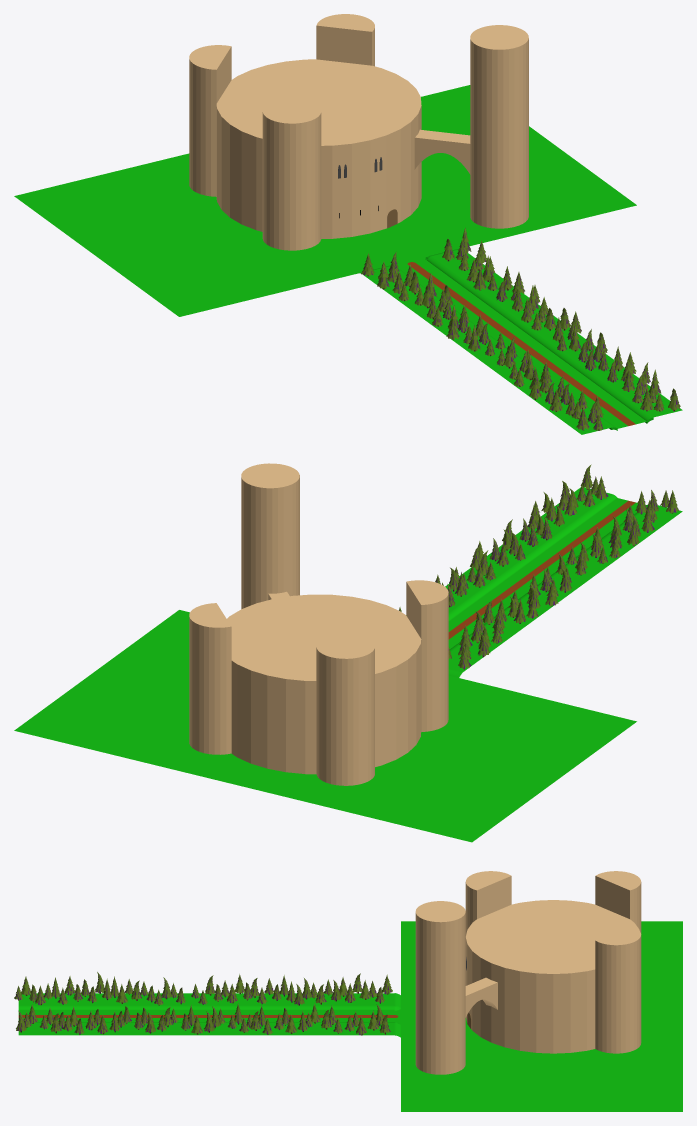
The model's file is camiInicial.glb.
3 views of the same model, one above another, from view 1: azimuth 30°, elevation 25°; view 2: azimuth 150°, elevation 25°; view 3: azimuth 270°, elevation 25° (orthographic). The views are drawn at different scales.
Visible parts, largest first — view 1: terraBellver, Castell, Semitorre, Torre, bosc.E, herba.E.002, Semitorre.001, rampaBosc.E, terra, Pont; view 2: terraBellver, Castell, Semitorre, Torre, Semitorre.001, bosc.E, herba.E.002, rampaBosc.E, terra; view 3: terraBellver, Castell, Torre, bosc.E, Semitorre.001, Semitorre, rampaBosc.E, herba.E.002, Pont, terra.
Part boxes in pixels (left/top/right/bottom): terraBellver: left=14, top=85, right=636, bottom=316; Castell: left=216, top=59, right=421, bottom=238; Semitorre: left=189, top=45, right=321, bottom=250; Torre: left=470, top=25, right=528, bottom=228; bosc.E: left=363, top=250, right=682, bottom=434; herba.E.002: left=398, top=260, right=646, bottom=428; Semitorre.001: left=316, top=14, right=374, bottom=66; rampaBosc.E: left=398, top=256, right=653, bottom=430; terra: left=408, top=263, right=635, bottom=425; Pont: left=414, top=129, right=470, bottom=174; terraBellver: left=14, top=610, right=636, bottom=842; Castell: left=227, top=594, right=421, bottom=774; Semitorre: left=316, top=580, right=448, bottom=785; Torre: left=241, top=463, right=299, bottom=608; Semitorre.001: left=189, top=603, right=231, bottom=754; bosc.E: left=445, top=487, right=682, bottom=672; herba.E.002: left=448, top=498, right=646, bottom=648; rampaBosc.E: left=448, top=494, right=647, bottom=651; terra: left=448, top=500, right=635, bottom=639; terraBellver: left=394, top=921, right=682, bottom=1111; Castell: left=465, top=900, right=639, bottom=1053; Torre: left=415, top=901, right=465, bottom=1074; bosc.E: left=18, top=993, right=394, bottom=1035; Semitorre.001: left=595, top=926, right=641, bottom=1053; Semitorre: left=465, top=871, right=641, bottom=936; rampaBosc.E: left=18, top=1005, right=394, bottom=1022; herba.E.002: left=18, top=1010, right=394, bottom=1021; Pont: left=465, top=977, right=497, bottom=1017; terra: left=18, top=1015, right=394, bottom=1017.
Bounding box in the file's own units: 360 × 145 × 534.
